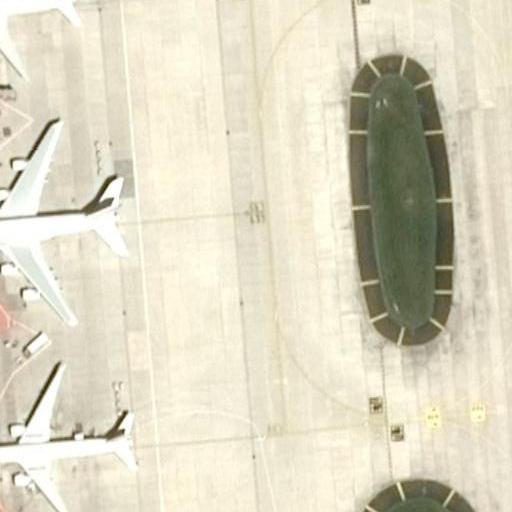Aircraft: (0, 113, 134, 326), (0, 363, 139, 512), (0, 0, 91, 77)
